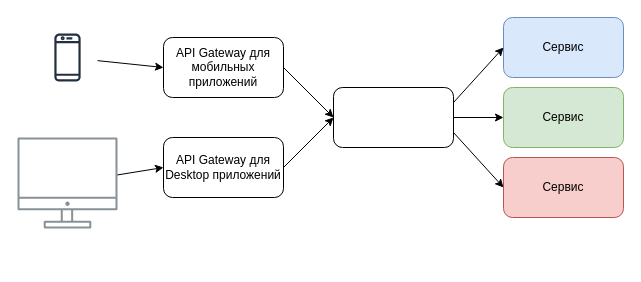
The diagram is 641 pixels wide and 282 high, and some of its shapes have lost their labels. Here are the shapes that lost their labels. From the top down, the centre of each, then its label:
point (67, 57): Смартфон
point (393, 117): Сервис Авторизации
point (67, 182): Персональный Компьютер
